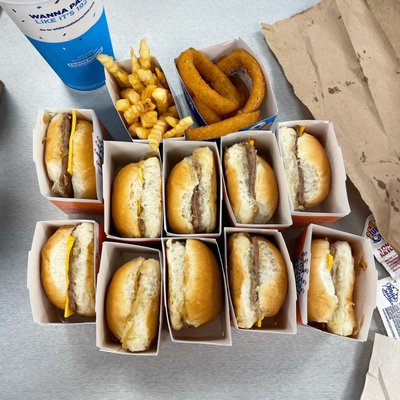pizza: (1, 0, 115, 93)
